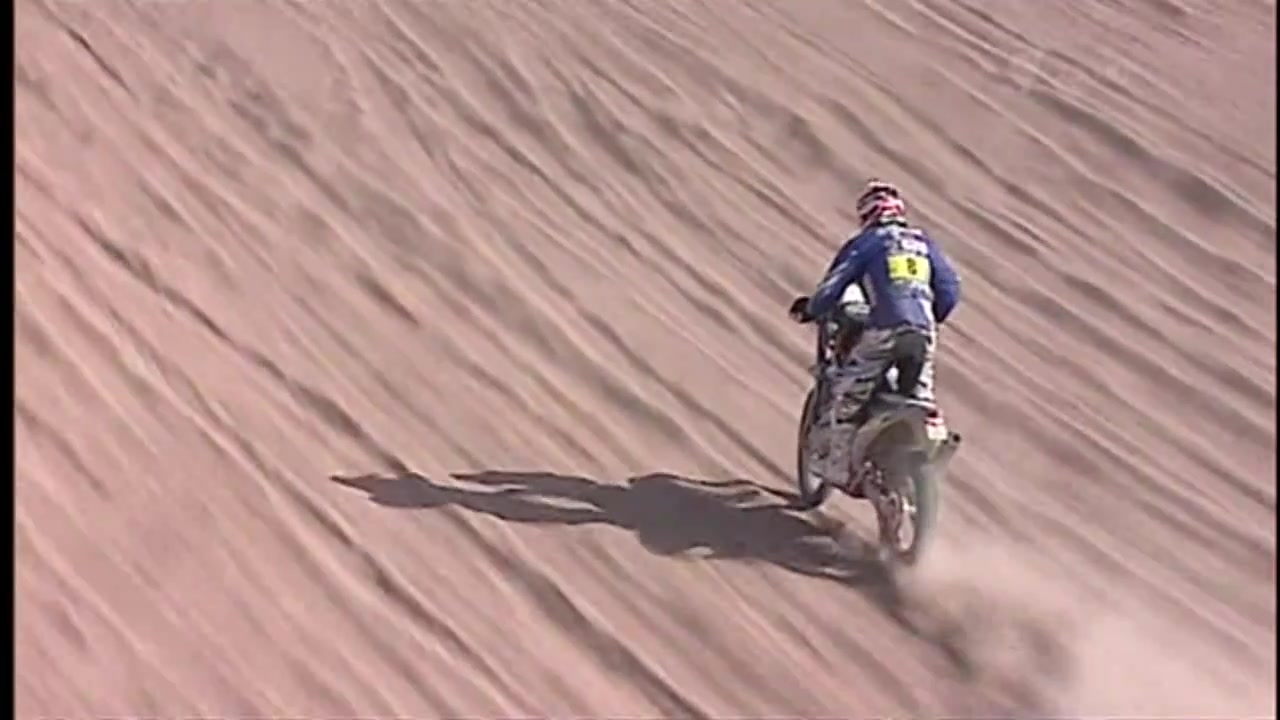motorbike: (783, 293, 963, 578)
